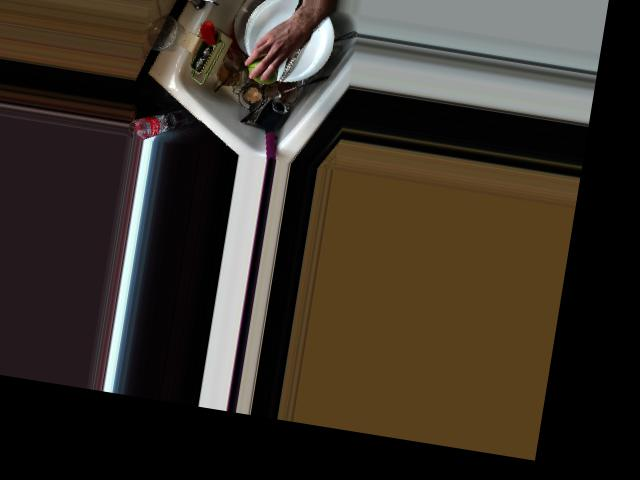apple: (246, 49, 283, 86)
